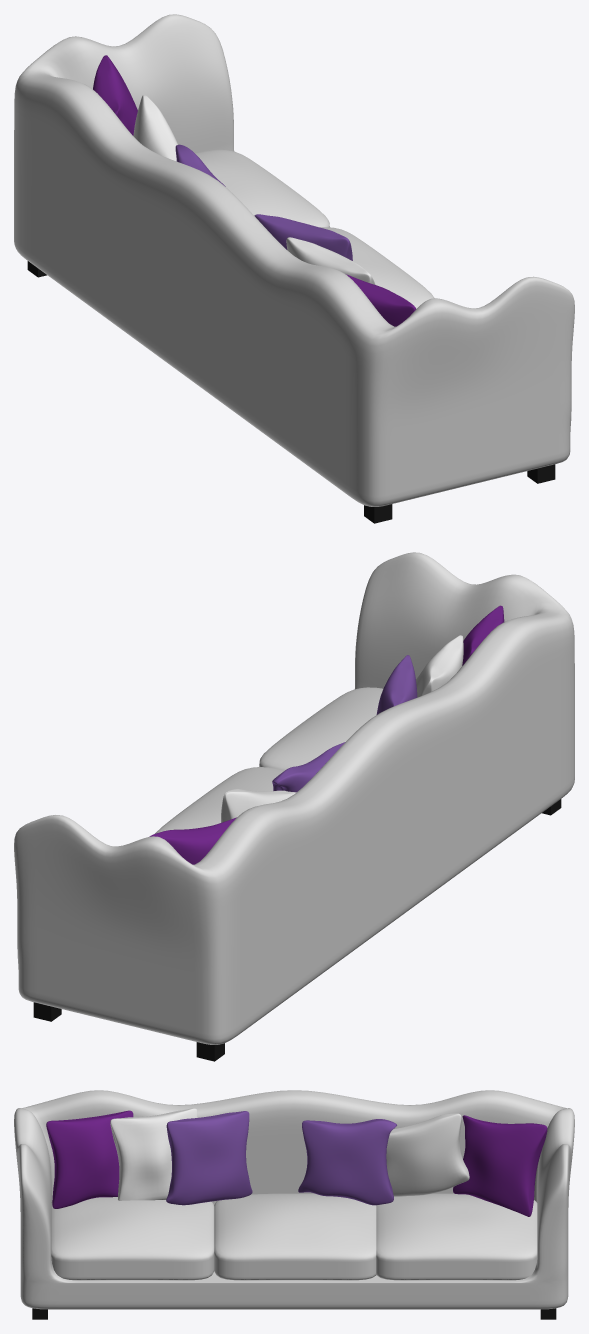
The model's file is sofa.glb.
3 views of the same model, one above another, from view 1: azimuth 30°, elevation 25°; view 2: azimuth 150°, elevation 25°; view 3: azimuth 270°, elevation 25° (orthographic). The views are drawn at different scales.
Parts seen in each view (by area): view 1: Plane, Cube.002, Cube.001, Plane.004, Plane.005, Plane.006, Plane.003, Plane.001, Cube.003; view 2: Plane, Cube, Cube.001, Plane.005, Plane.003, Plane.004, Plane.006, Plane.002, Cube.003, Plane.001; view 3: Plane, Cube.001, Cube.002, Cube, Plane.004, Plane.002, Plane.005, Plane.001, Plane.006, Plane.003, Cube.003.
Boxes of the visible parts, x1=… form: Plane: x1=14, y1=14, x2=574, y2=506; Cube.002: x1=195, y1=149, x2=329, y2=227; Cube.001: x1=320, y1=227, x2=434, y2=308; Plane.004: x1=254, y1=214, x2=352, y2=260; Plane.005: x1=93, y1=55, x2=137, y2=135; Plane.006: x1=133, y1=95, x2=177, y2=161; Plane.003: x1=286, y1=237, x2=375, y2=284; Plane.001: x1=345, y1=274, x2=415, y2=326; Cube.003: x1=27, y1=261, x2=555, y2=523; Plane: x1=14, y1=552, x2=574, y2=1044; Cube: x1=259, y1=687, x2=383, y2=769; Cube.001: x1=155, y1=767, x2=285, y2=833; Plane.005: x1=149, y1=817, x2=236, y2=864; Plane.003: x1=416, y1=635, x2=463, y2=697; Plane.004: x1=376, y1=655, x2=417, y2=714; Plane.006: x1=221, y1=789, x2=296, y2=822; Plane.002: x1=272, y1=742, x2=345, y2=792; Cube.003: x1=33, y1=799, x2=561, y2=1061; Plane.001: x1=462, y1=605, x2=504, y2=665; Plane: x1=14, y1=1090, x2=574, y2=1309; Cube.001: x1=214, y1=1193, x2=376, y2=1280; Cube.002: x1=376, y1=1193, x2=537, y2=1280; Cube: x1=51, y1=1197, x2=214, y2=1280; Plane.004: x1=166, y1=1111, x2=252, y2=1205; Plane.002: x1=298, y1=1119, x2=396, y2=1205; Plane.005: x1=453, y1=1115, x2=547, y2=1216; Plane.001: x1=46, y1=1110, x2=133, y2=1208; Plane.006: x1=386, y1=1113, x2=469, y2=1196; Plane.003: x1=110, y1=1108, x2=197, y2=1200; Cube.003: x1=32, y1=1308, x2=556, y2=1319.
Bounding box in the file's own units: 2.37 × 2.31 × 7.25.
